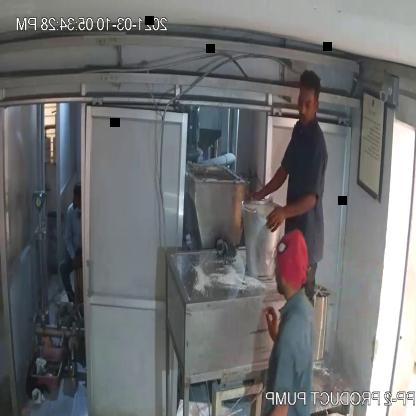no_glove: (266, 186, 321, 238), (246, 158, 292, 216)
